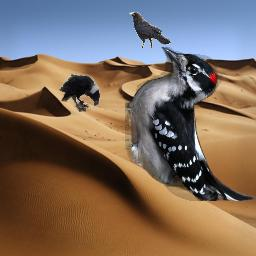Crow: (59, 74, 100, 112), (129, 12, 171, 48)
Woodpecker: (125, 47, 255, 201)
